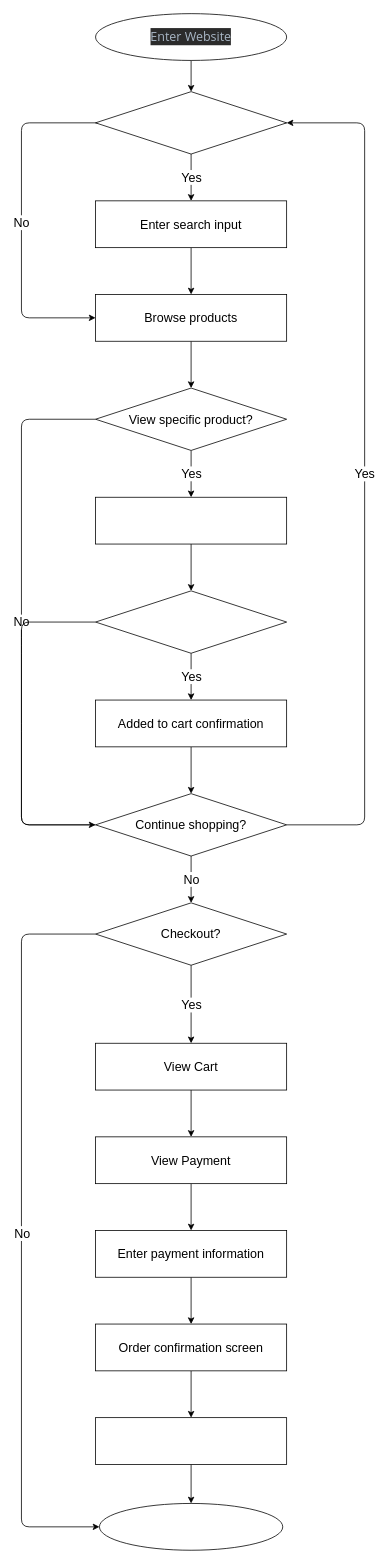
Some shapes in this 388 by 1564 pixel diagram are drawn without their labels. The centre of each missing label's shape, as x and y in pixels:
"Add item to cart?" belongs at [191,621].
"Confirmation email sent" belongs at [191,1440].
"Leave Website" belongs at [191,1526].
"Open product page" belongs at [191,520].
"Search for product?" belongs at [191,122].
